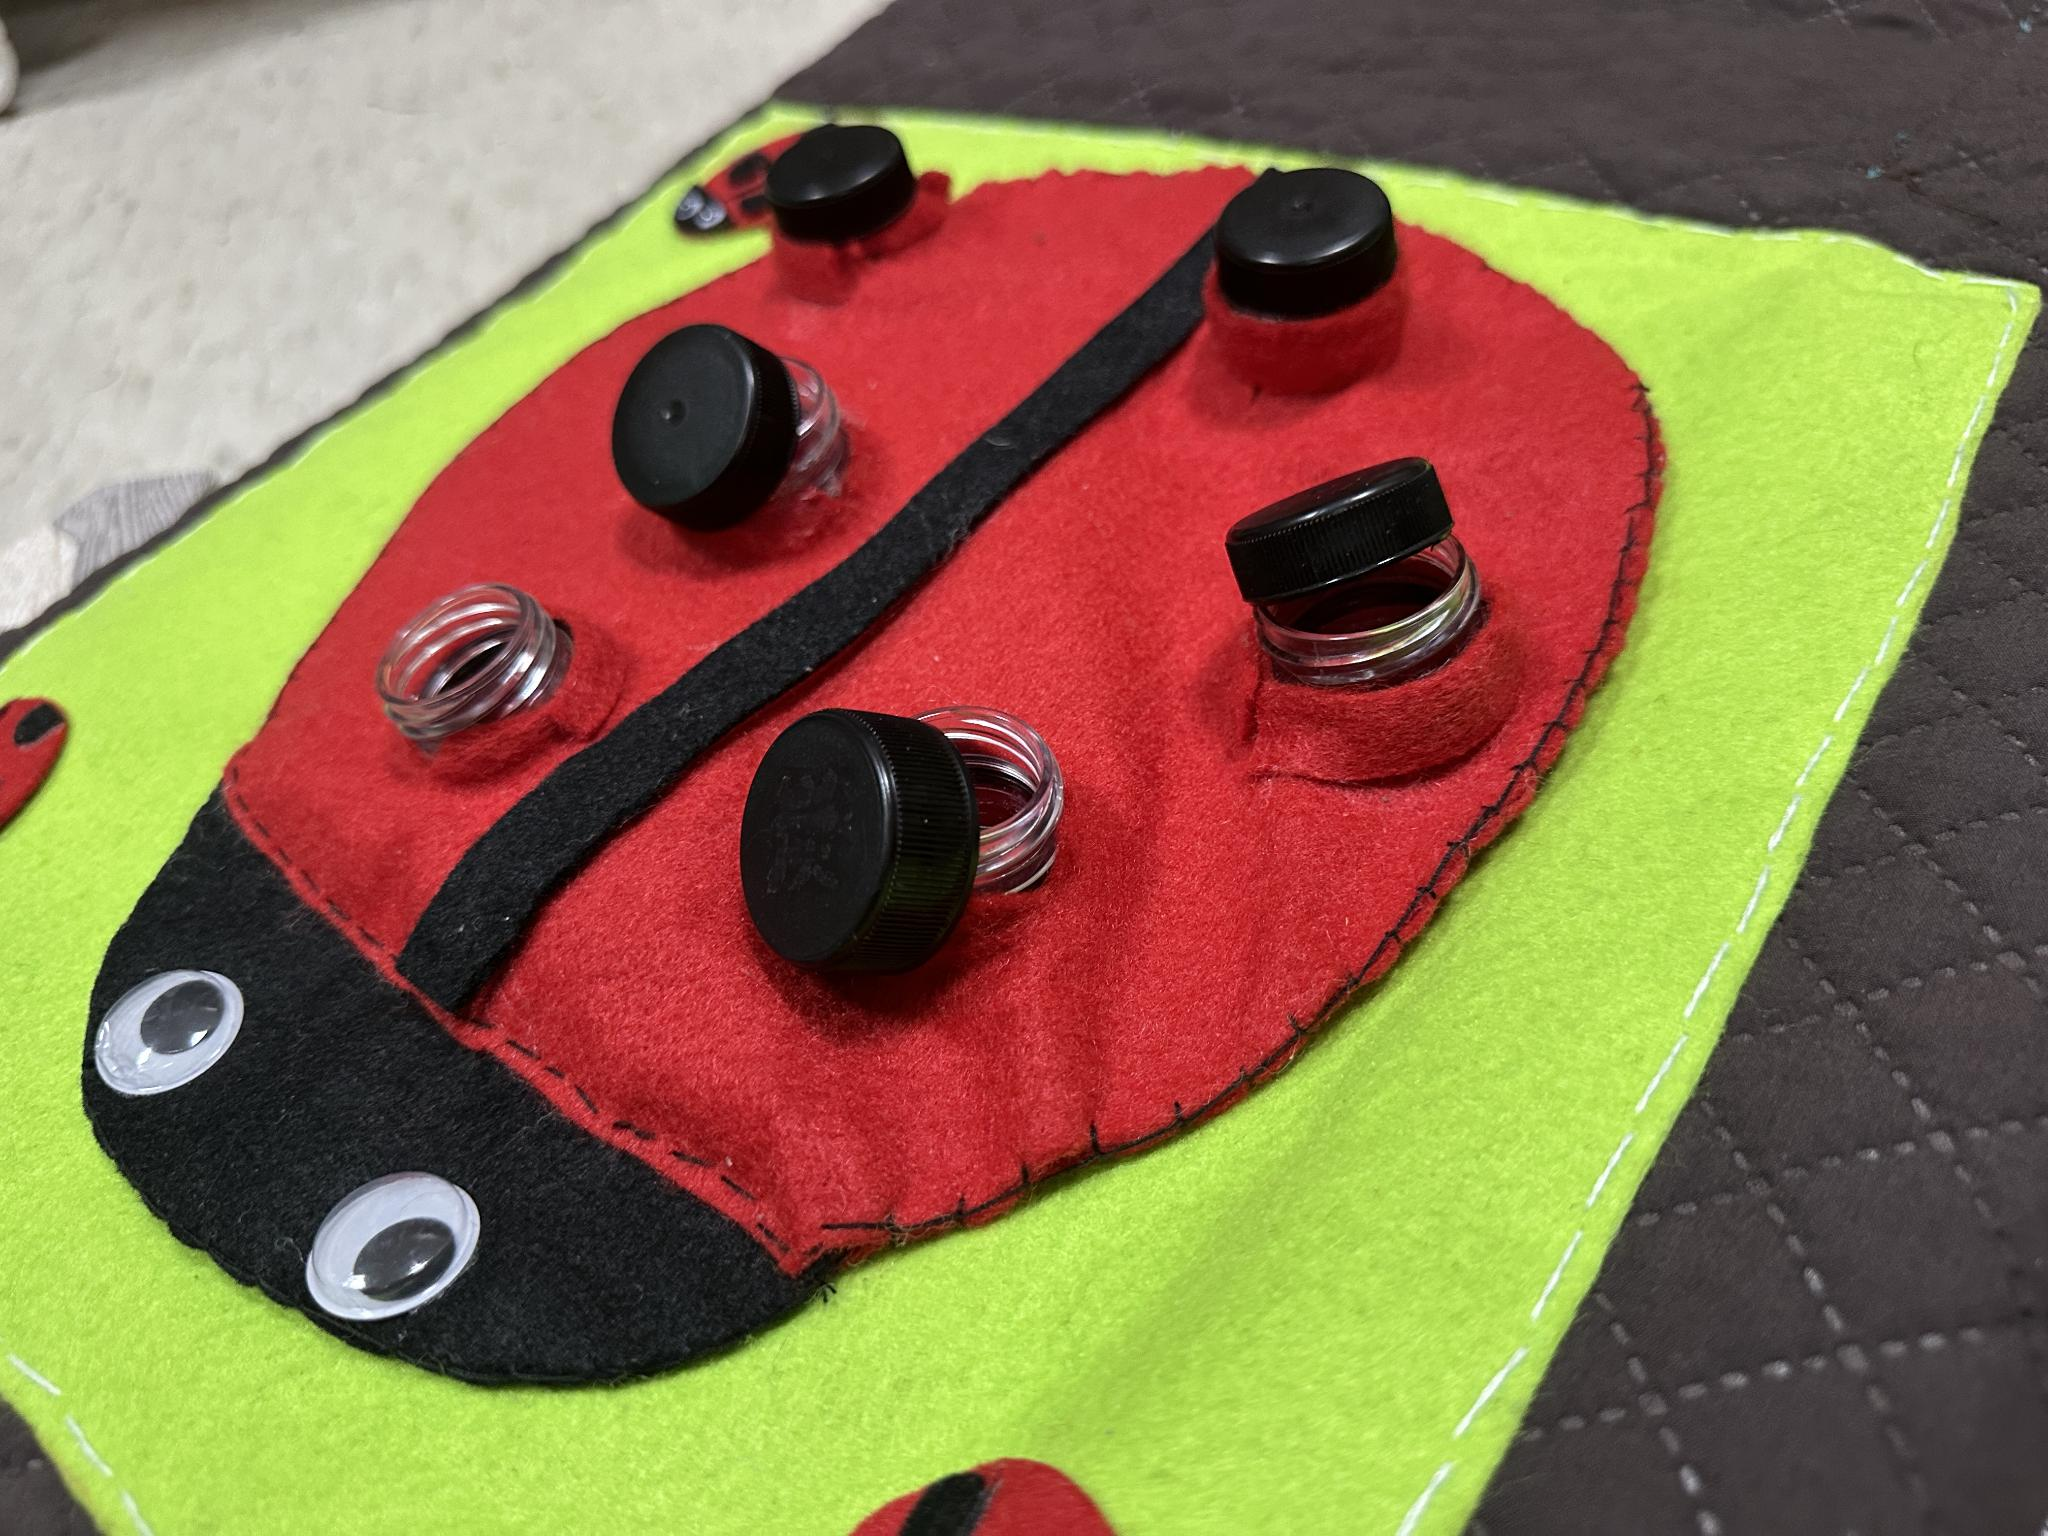cap_ng: (1205, 432, 1532, 795), (716, 682, 1085, 1000), (610, 318, 882, 553)
cap_ok: (1187, 153, 1426, 408), (745, 118, 945, 273)
